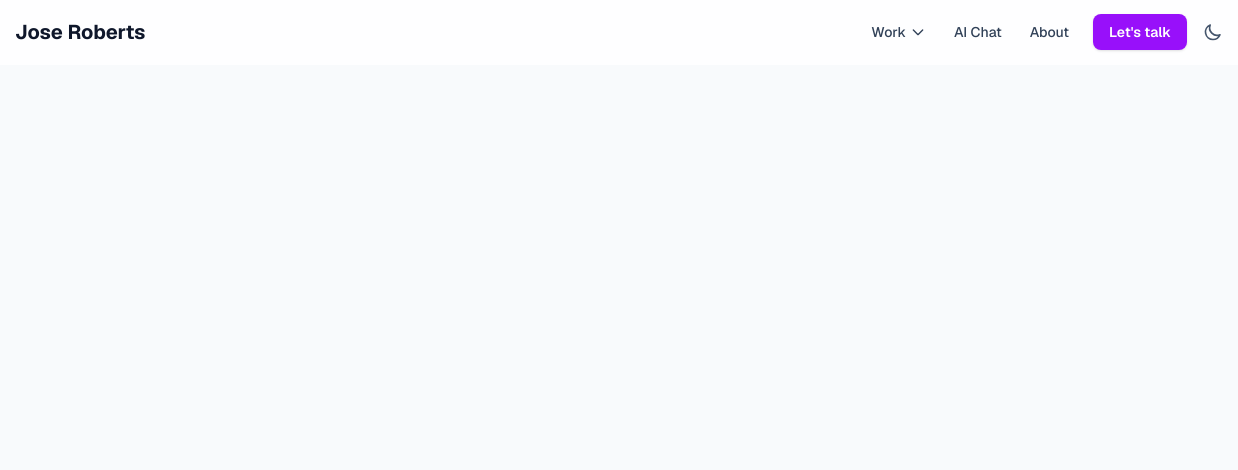
it: Header Component › reveals the Work dropdown items only after the Work button is clicked
Check: the link "Web Development" is not shown
Click the button "Work".
click(899, 32)  # box x1=859 y1=14 x2=938 y2=50
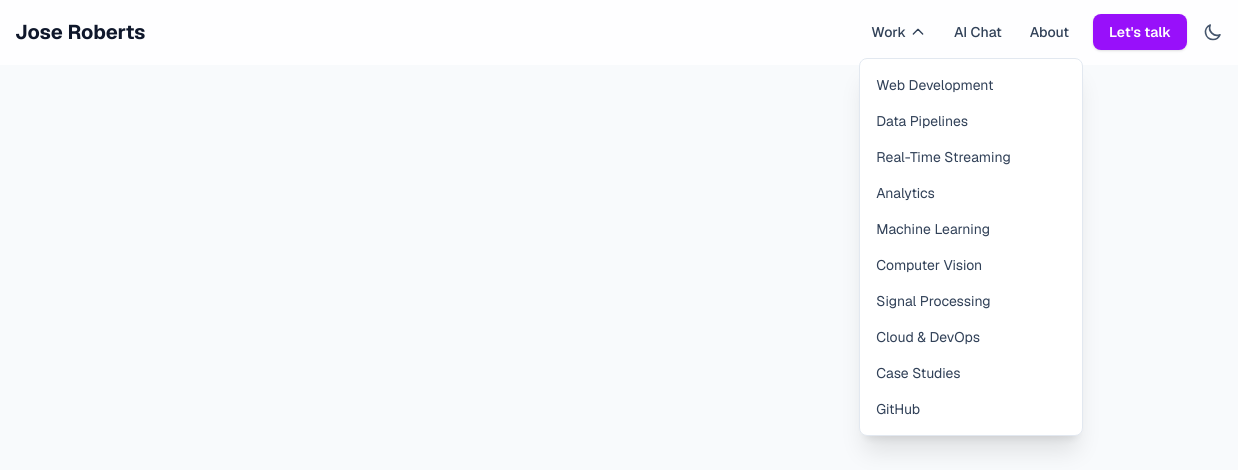
Check: the button "Work" is expanded, box x1=859 y1=14 x2=938 y2=50
